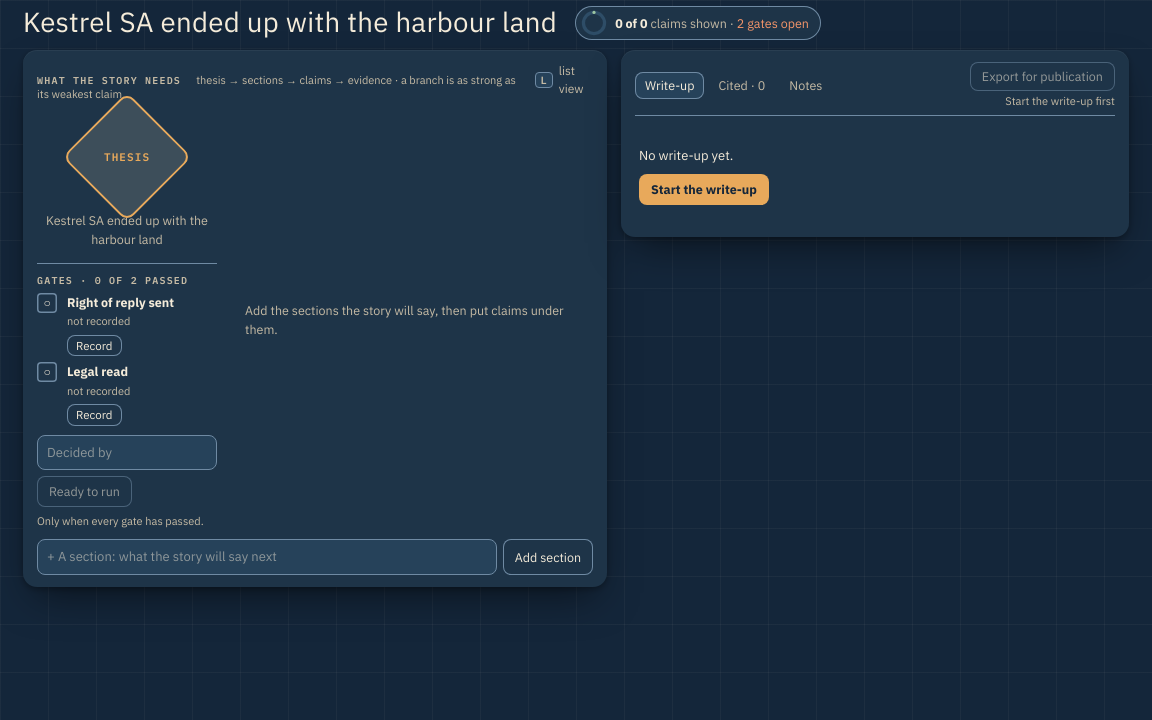
the story screen › shows a section the server would not add in its own form, once, with the title kept
Click the button "Add section" at x=548, y=557, box [503, 539, 593, 575]
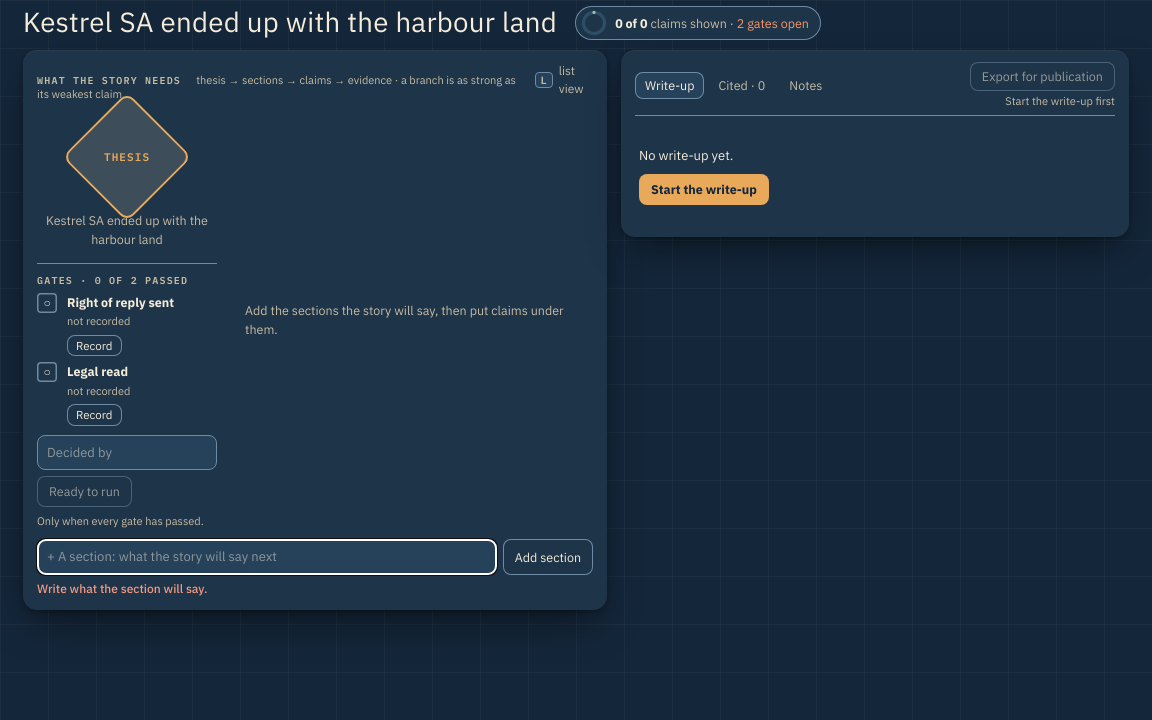
Expected: the text "Write what the section will say." is shown, [37, 581, 207, 596]
Type "Who bought the land" into the field named "A new section" at x=267, y=557, box [37, 539, 497, 575]
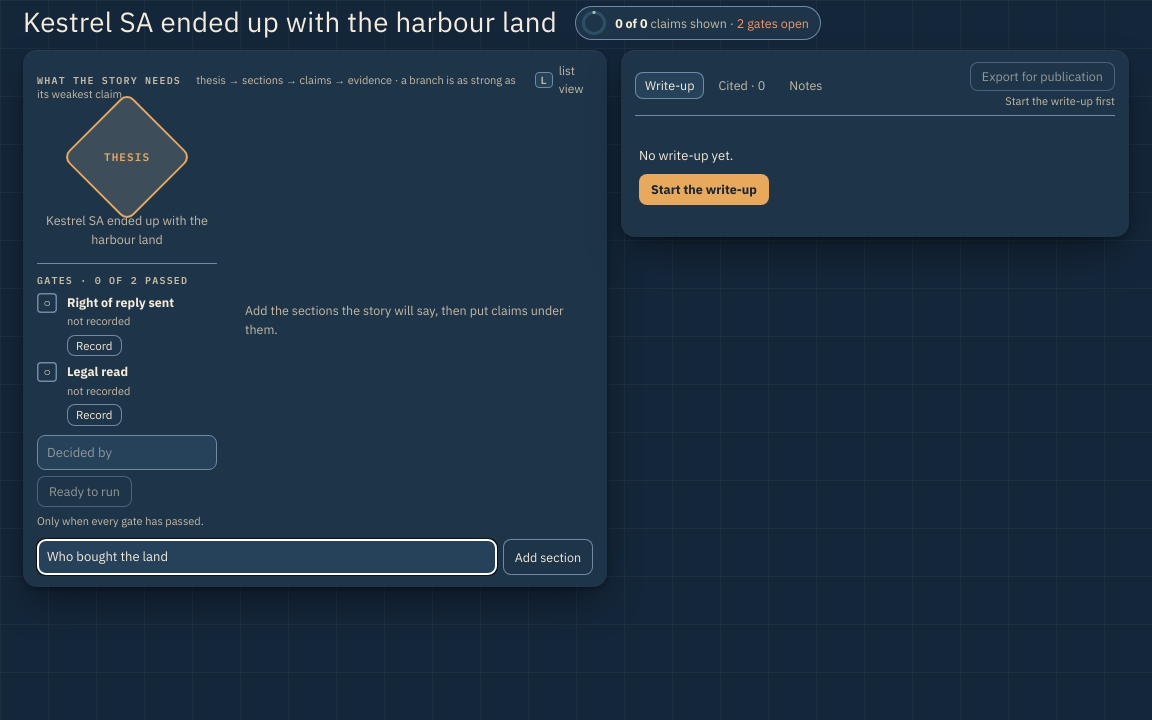
Click the button "Add section" at x=548, y=557, box [503, 539, 593, 575]
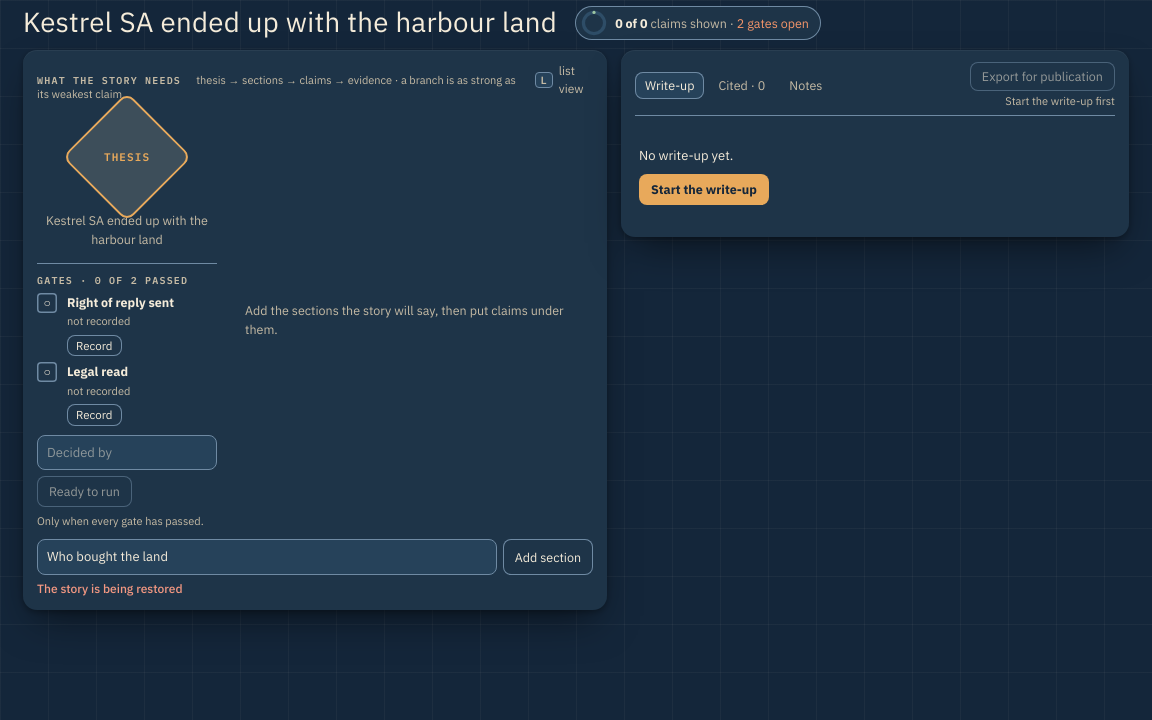
Expected: the message reads "The story is being restored", [37, 581, 182, 596]
Expected: the number of messages is 1, [37, 581, 182, 596]
